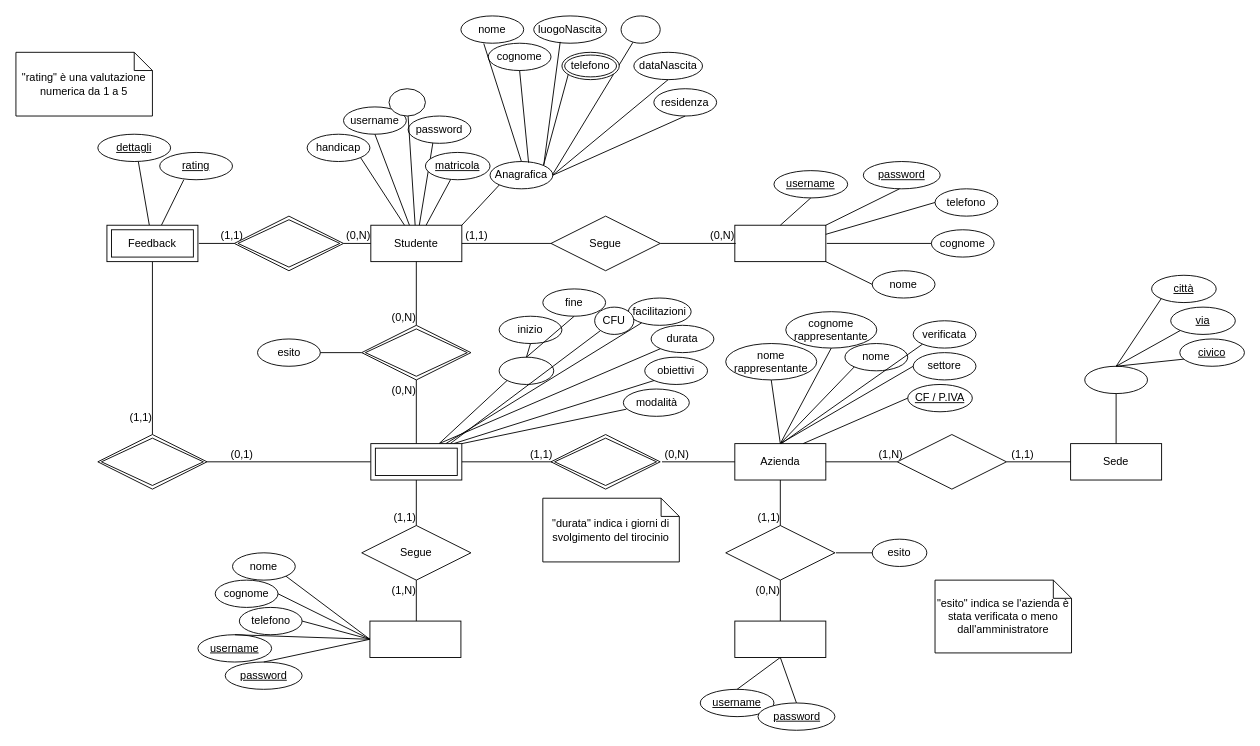
Some shapes in this 1260 by 746 pixel diagram are drawn without their labels. The shapes that lost their labels are listed below. From the top down, each one's box as (x1, y1, x2, y2) in pixels, then its label:
(620, 15, 660, 43): CF
(388, 88, 425, 116): CdL
(233, 215, 344, 271): Rilascia
(734, 224, 826, 262): Tutor universitario
(361, 324, 471, 380): Svolge
(498, 356, 554, 384): orari
(1084, 365, 1148, 394): indirizzo
(97, 434, 207, 489): Relativo
(370, 443, 462, 480): Tirocinio
(550, 434, 660, 489): Offre
(896, 434, 1006, 489): assegnato
(725, 525, 835, 580): Verifica
(369, 620, 461, 657): Tutor aziendale
(734, 620, 826, 657): amministratore
